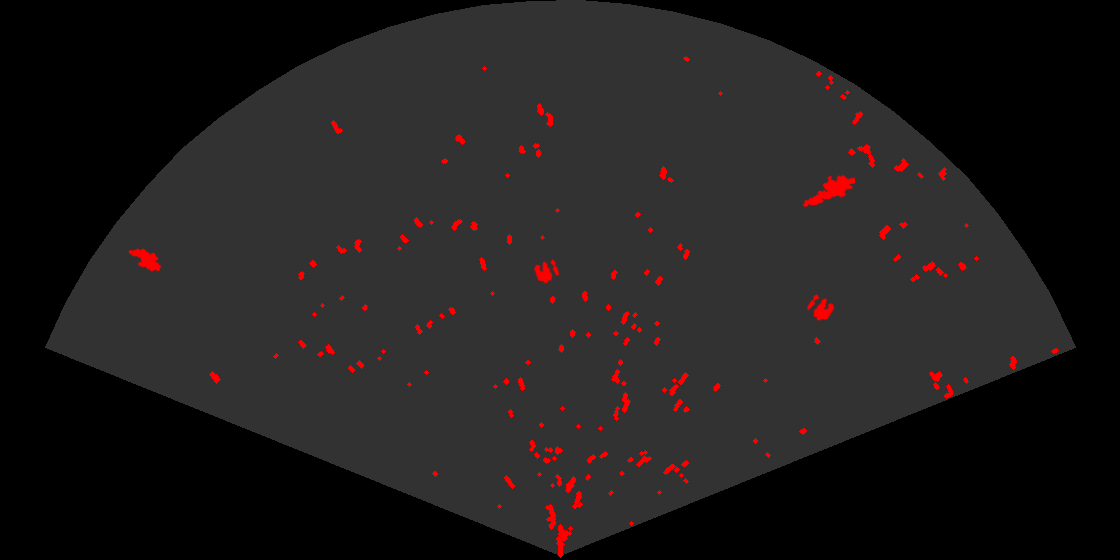AUV: (126, 247, 163, 273)
ball: (805, 293, 836, 322), (532, 258, 561, 285)
frogman: (801, 173, 855, 209)
